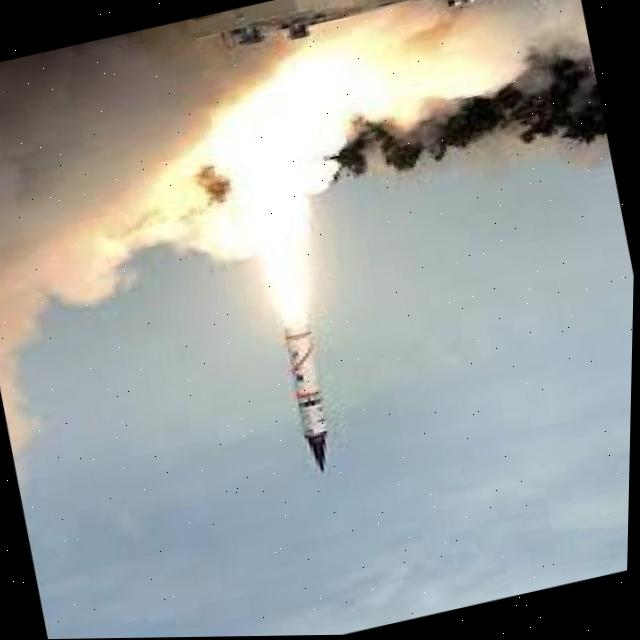missile: (265, 299, 354, 477)
